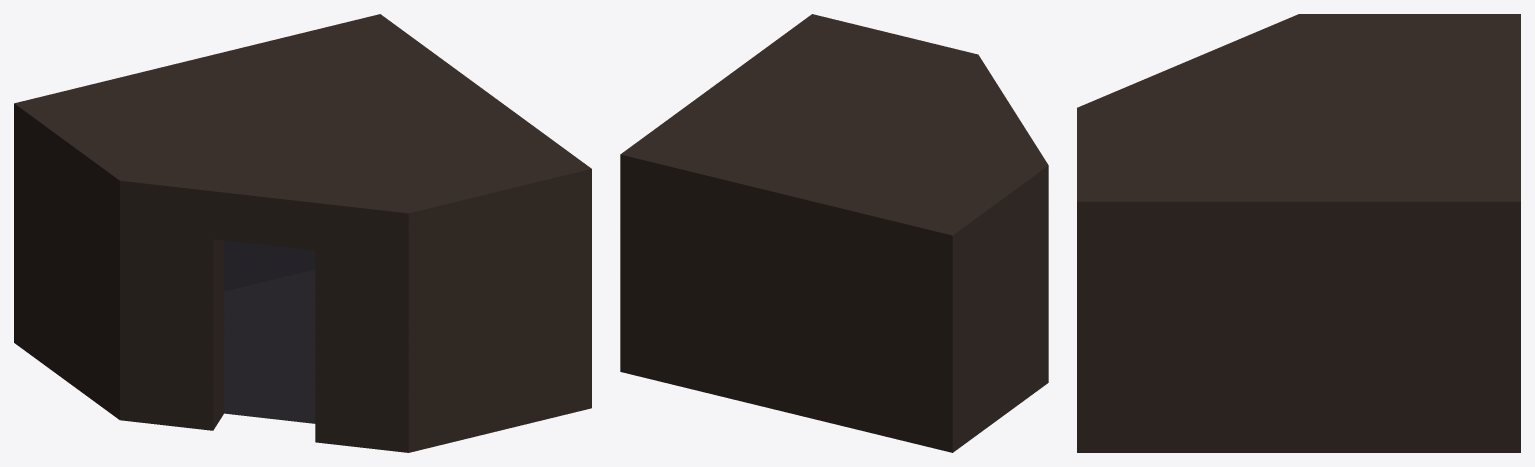
Rendered from modularBuildings_059.obj.
3 renders of one model, left to right at view 1: azimuth 30°, elevation 25°; view 2: azimuth 150°, elevation 25°; view 3: azimuth 270°, elevation 25°, orthographic. The views are drawn at different scales.
Parts seen in each view (by area): view 1: Mesh1 Group1 Model; view 2: Mesh1 Group1 Model; view 3: Mesh1 Group1 Model.
Part boxes in pixels (x1,y1,x2,y2): Mesh1 Group1 Model: (14, 14, 591, 452); Mesh1 Group1 Model: (620, 14, 1048, 452); Mesh1 Group1 Model: (1077, 14, 1520, 452).
Size of the model in its own units: 1 by 0.625 by 1.
Materials: 2 (2 with a texture image).
